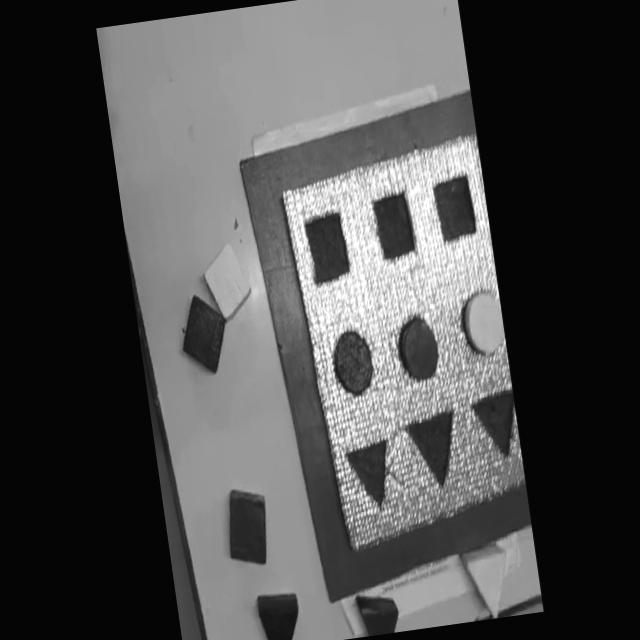bcircle: (332, 330, 378, 398)
bcube: (176, 291, 232, 377)
btriangle: (256, 590, 305, 640)
mtcube: (303, 209, 353, 286), (431, 174, 480, 245), (371, 190, 418, 264)
mttriangle: (404, 410, 464, 492), (344, 438, 396, 514), (472, 391, 522, 462)
rcircle: (401, 318, 438, 379)
rcube: (220, 483, 275, 570)
rtriangle: (358, 590, 401, 636)
wb: (274, 124, 530, 558)
ycircle: (460, 290, 507, 357)
ycube: (205, 242, 250, 318)
ytriangle: (461, 542, 514, 622)
